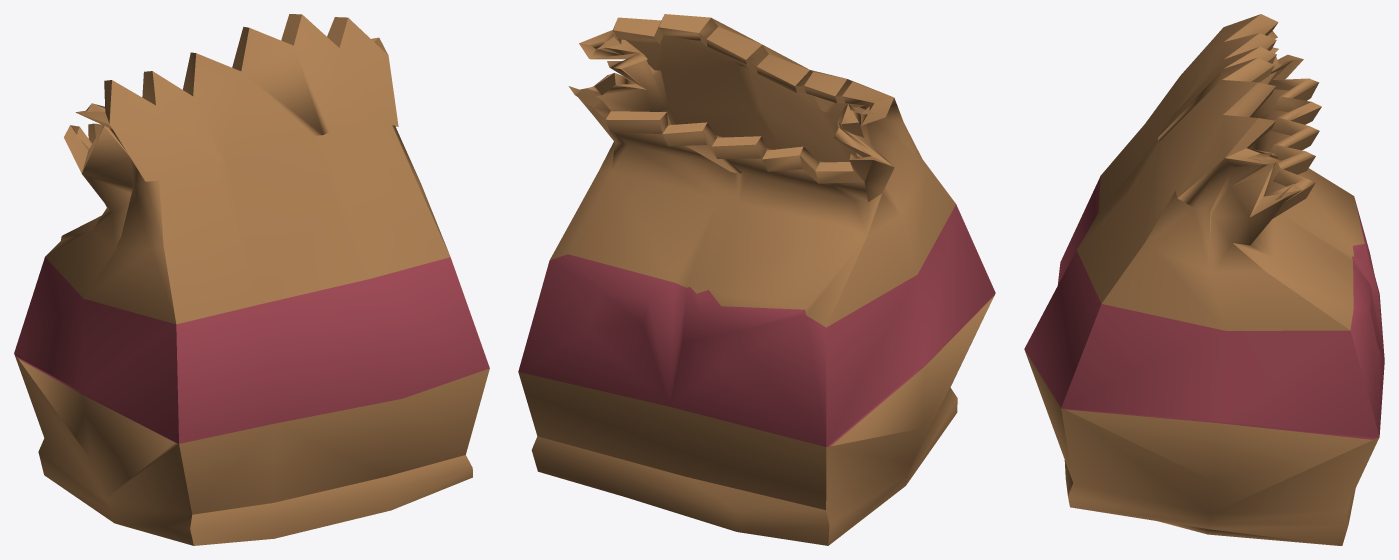
File: PaperBag_01.FBX
The picture shows the model from 3 angles, left to right: view 1: azimuth 30°, elevation 25°; view 2: azimuth 150°, elevation 25°; view 3: azimuth 270°, elevation 25°; orthographic projection. The views are drawn at different scales.
Parts seen in each view (by area): view 1: PaperBag_01; view 2: PaperBag_01; view 3: PaperBag_01.
Boxes of the visible parts, x1,y1,x2,y2 form: PaperBag_01: [14, 14, 489, 545]; PaperBag_01: [518, 14, 995, 545]; PaperBag_01: [1024, 14, 1384, 545].
Bounding box in the file's own units: 32.7 × 41.46 × 31.56.
